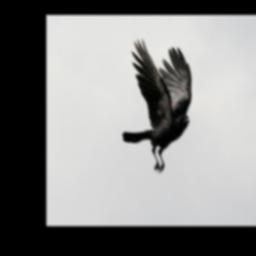Crow: (121, 37, 193, 176)
